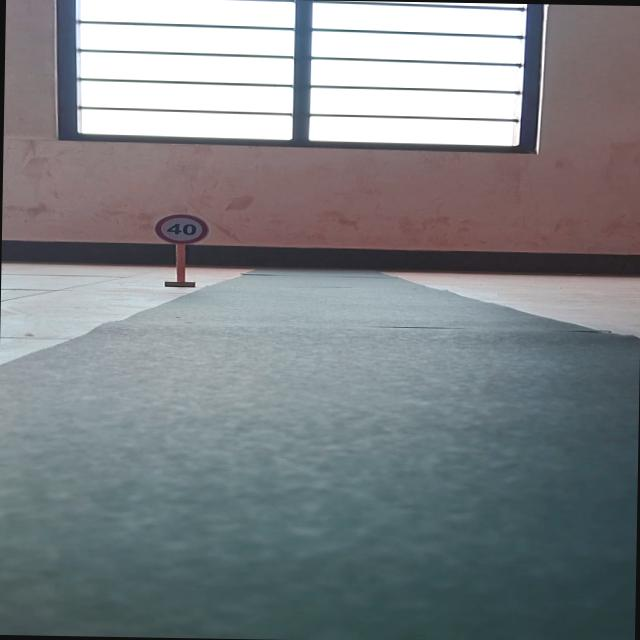Speed40: (154, 212, 214, 245)
